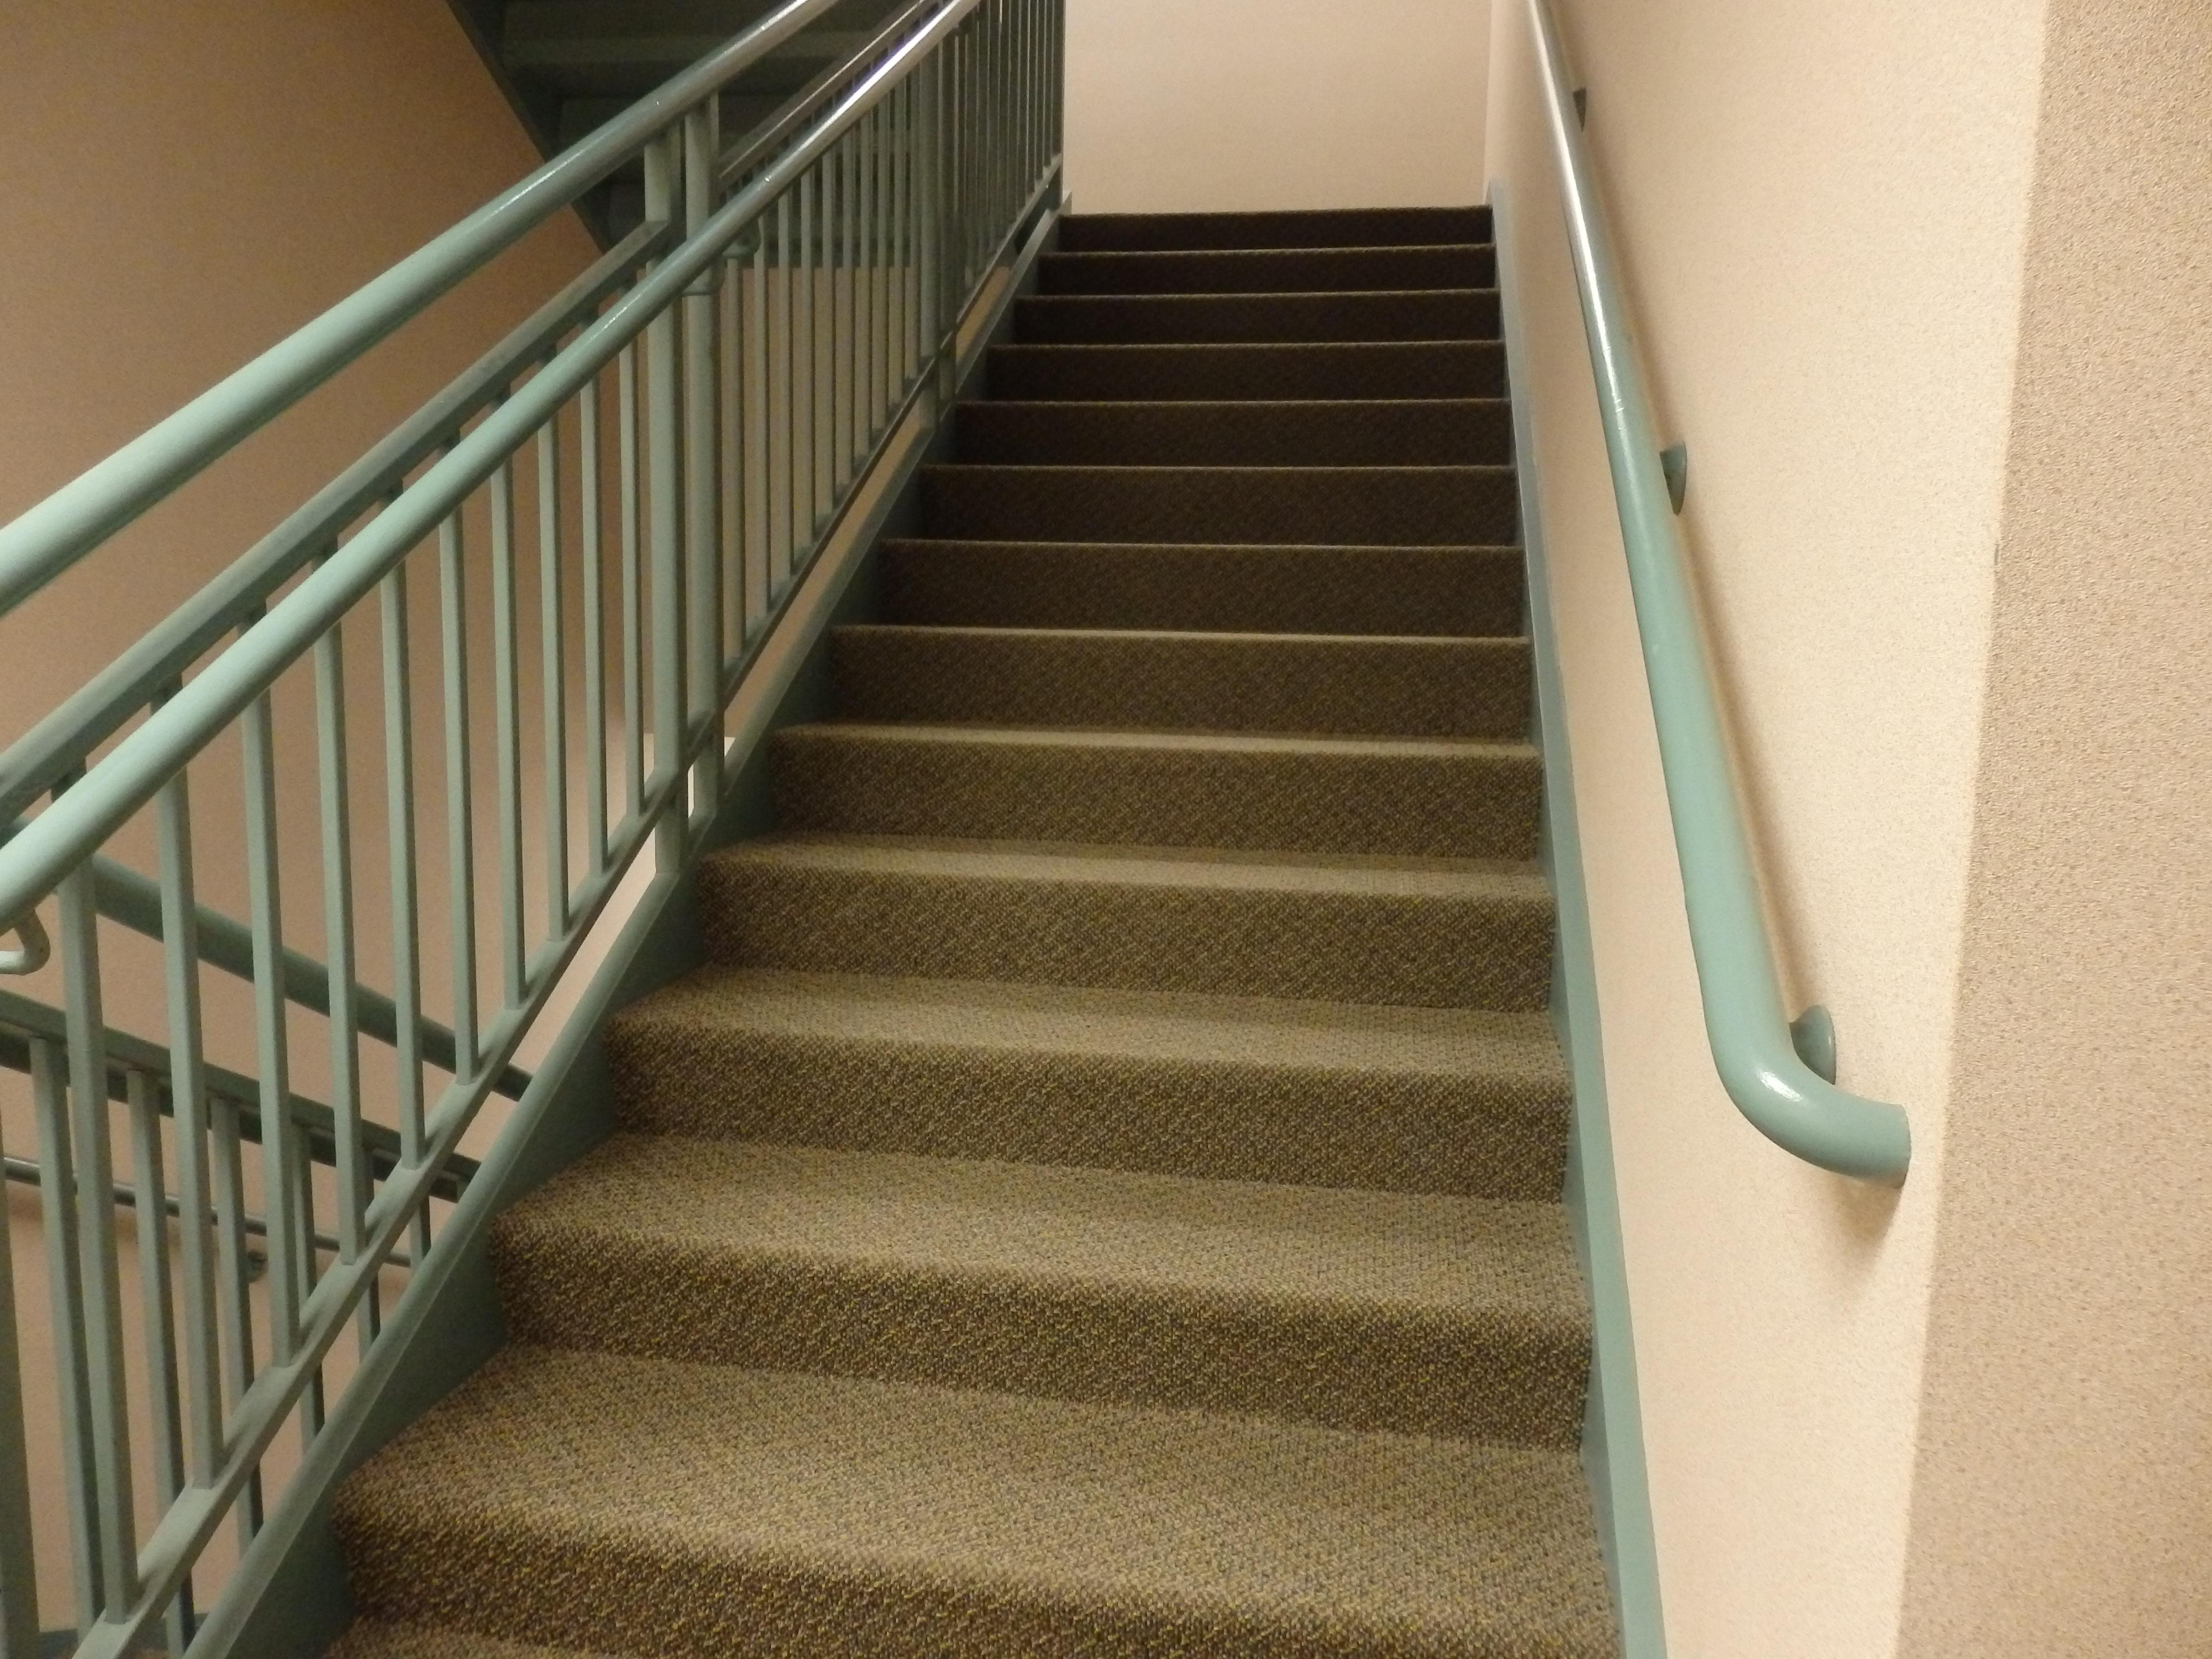stairs_up: (629, 122, 1587, 1595)
